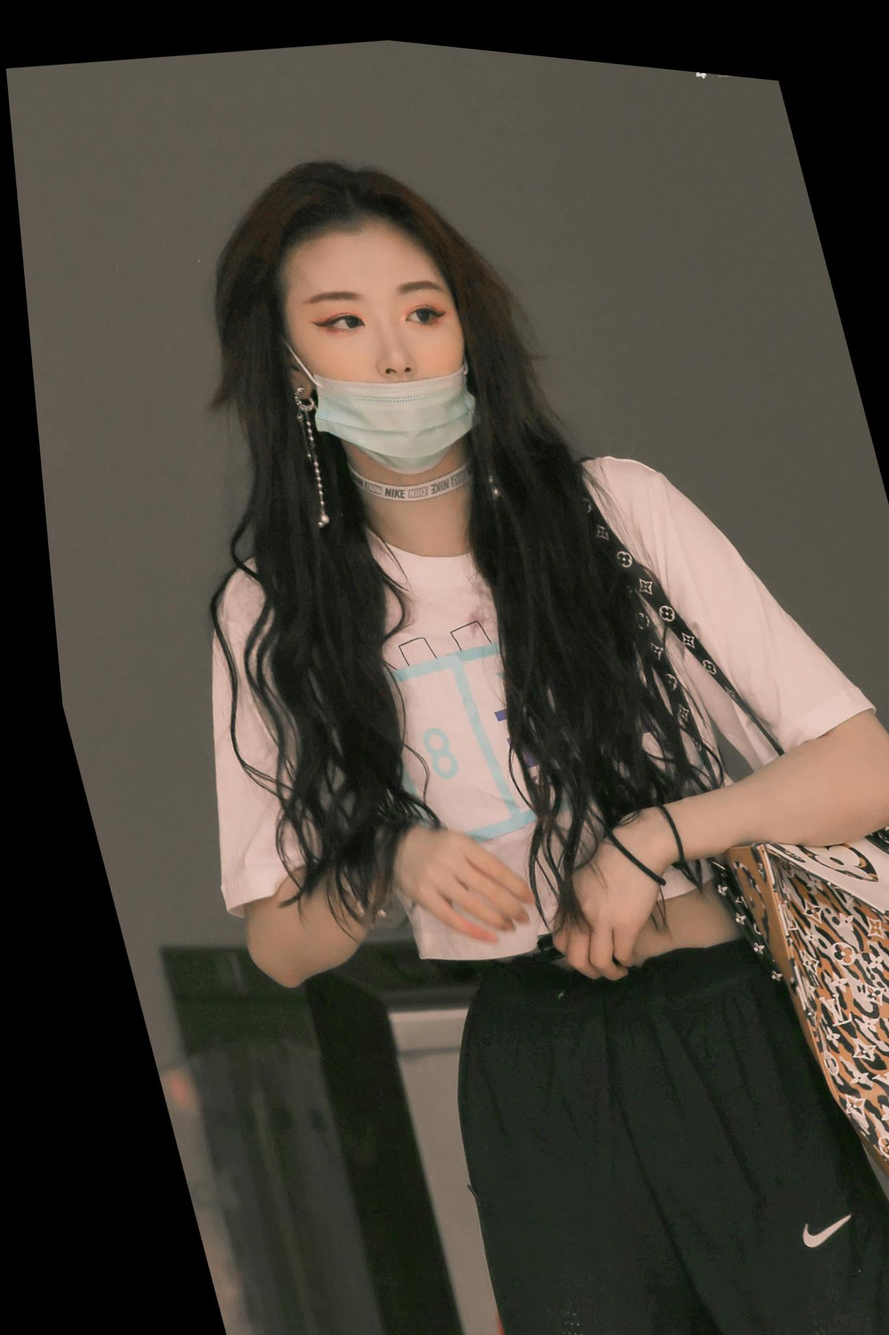WRONG: (269, 234, 492, 483)
